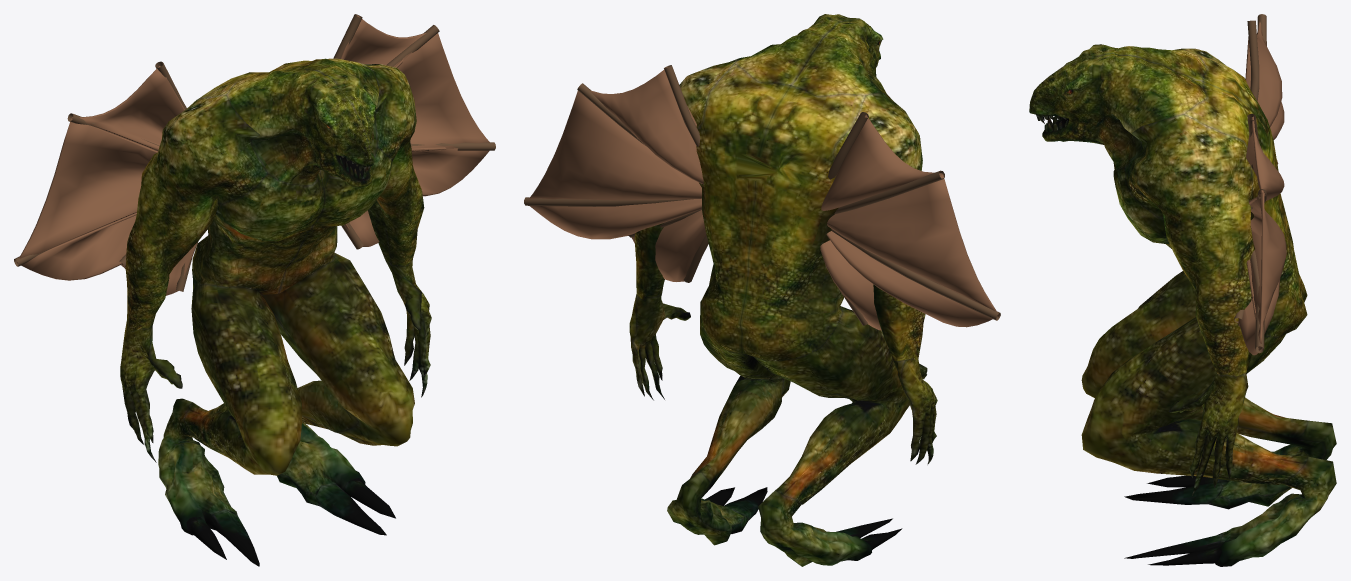
Rendered from actor-goldyx-mobile.glb.
3 views of the same model, side by side, from view 1: azimuth 30°, elevation 25°; view 2: azimuth 150°, elevation 25°; view 3: azimuth 270°, elevation 25° (orthographic).
Parts seen in each view (by area): view 1: lizardman · posed; view 2: lizardman · posed; view 3: lizardman · posed.
Part boxes in pixels (x1,y1,x2,y2): lizardman · posed: (14,14,495,566); lizardman · posed: (524,14,1000,566); lizardman · posed: (1029,14,1336,566).
Bounding box in the file's own units: 2.07 × 2 × 1.16.
Materials: 3 (1 with a texture image).
